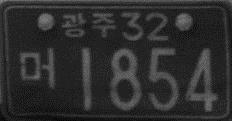1: (79, 45, 94, 114)
2: (145, 11, 169, 41)
3: (119, 10, 143, 42)
4: (183, 45, 219, 112)
5: (148, 44, 180, 111)
8: (108, 46, 142, 111)
광주_O: (61, 10, 116, 39)
머: (18, 47, 56, 93)
